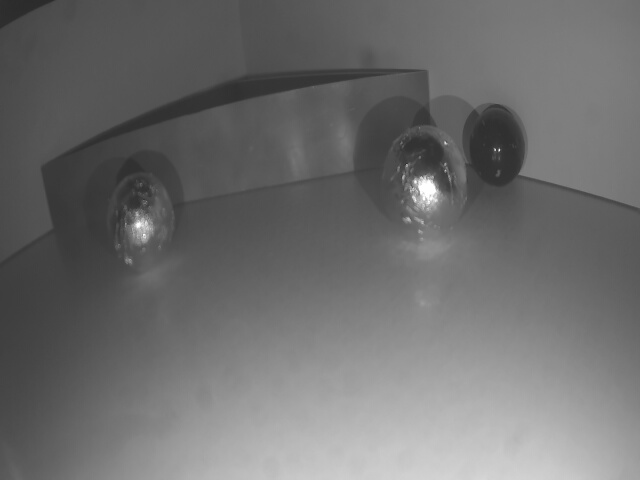Dead: (473, 107, 526, 190)
Live: (383, 129, 469, 243), (105, 174, 176, 272)
Red: (39, 70, 436, 231)
